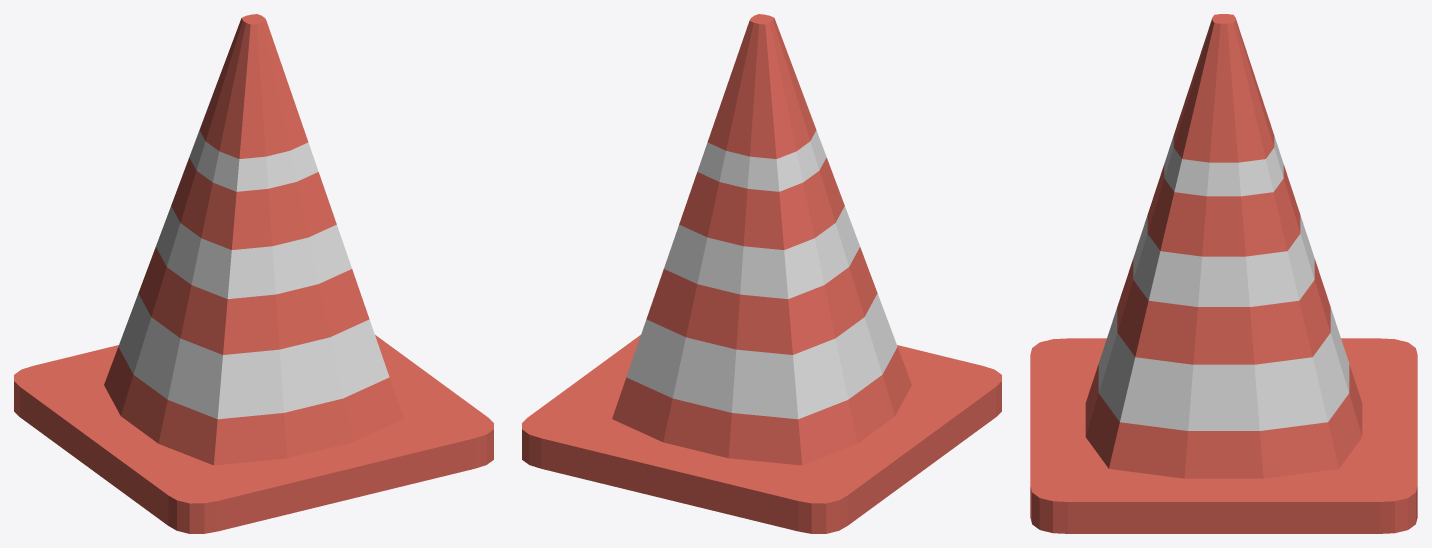
Rendered from cono.glb.
3 renders of one model, left to right at view 1: azimuth 30°, elevation 25°; view 2: azimuth 150°, elevation 25°; view 3: azimuth 270°, elevation 25°, orthographic. The views are drawn at different scales.
Parts seen in each view (by area): view 1: Cube; view 2: Cube; view 3: Cube.
Part boxes in pixels (<box>): Cube: <box>14,14,493,533</box>; Cube: <box>522,14,1001,533</box>; Cube: <box>1030,14,1417,533</box>.
Bounding box in the file's own units: 2 × 2.47 × 2.
